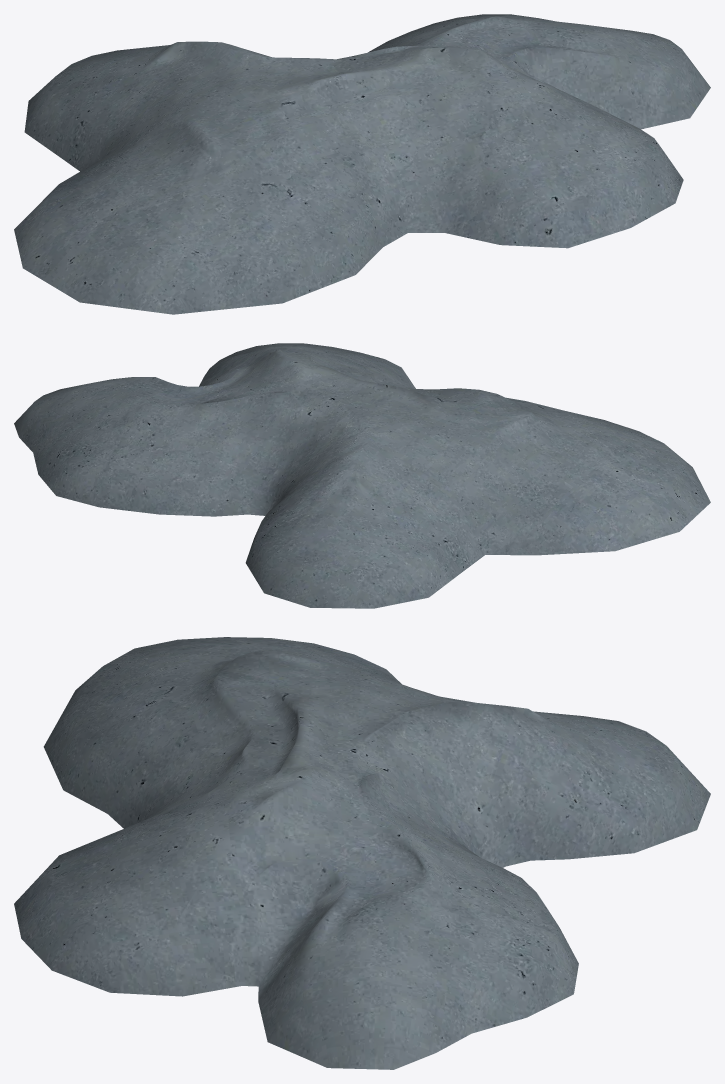
Rendered from tesv_snowdrifitl01int-transformed.glb.
3 renders of one model, top to bottom at view 1: azimuth 30°, elevation 25°; view 2: azimuth 150°, elevation 25°; view 3: azimuth 270°, elevation 25°, orthographic. The views are drawn at different scales.
Parts seen in each view (by area): view 1: snowdrifti01int; view 2: snowdrifti01int; view 3: snowdrifti01int.
Part boxes in pixels (x1,y1,x2,y2): snowdrifti01int: [14, 14, 710, 314]; snowdrifti01int: [14, 343, 710, 608]; snowdrifti01int: [14, 637, 710, 1069].
Bounding box in the file's own units: 14.43 × 2.22 × 10.4.
1 material, 1 textured.
